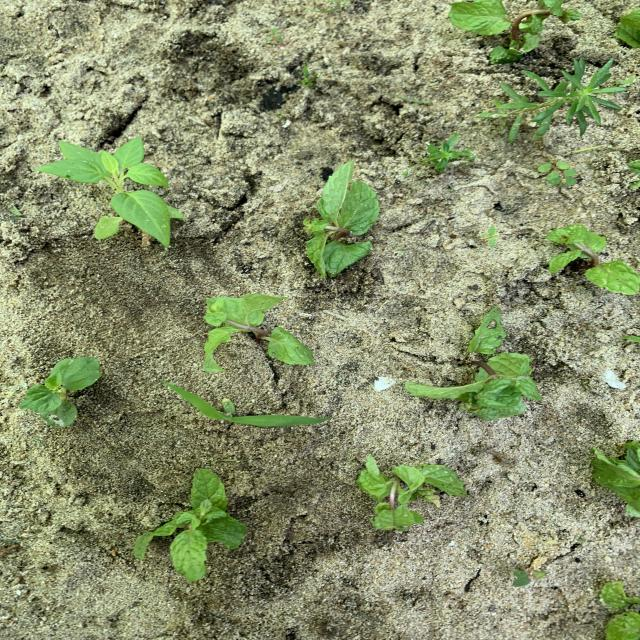crop: (404, 309, 540, 419), (134, 469, 247, 581), (304, 161, 379, 276), (203, 295, 313, 369), (357, 456, 466, 529), (450, 1, 577, 60), (547, 226, 639, 293), (20, 357, 100, 426), (591, 440, 639, 516), (600, 581, 639, 639), (616, 6, 639, 47), (630, 179, 639, 187)
weed: (36, 137, 185, 247), (478, 58, 625, 142), (167, 384, 326, 426), (21, 357, 100, 426), (422, 132, 472, 171), (512, 554, 546, 586), (538, 159, 577, 186), (301, 64, 317, 87), (482, 226, 499, 246), (268, 29, 282, 42)
